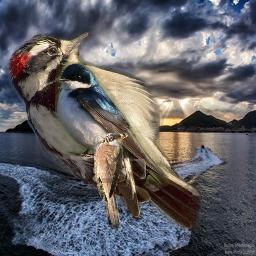Cuckoo: (94, 133, 129, 229)
Swallow: (55, 62, 169, 191)
Woodpecker: (7, 31, 201, 231)
